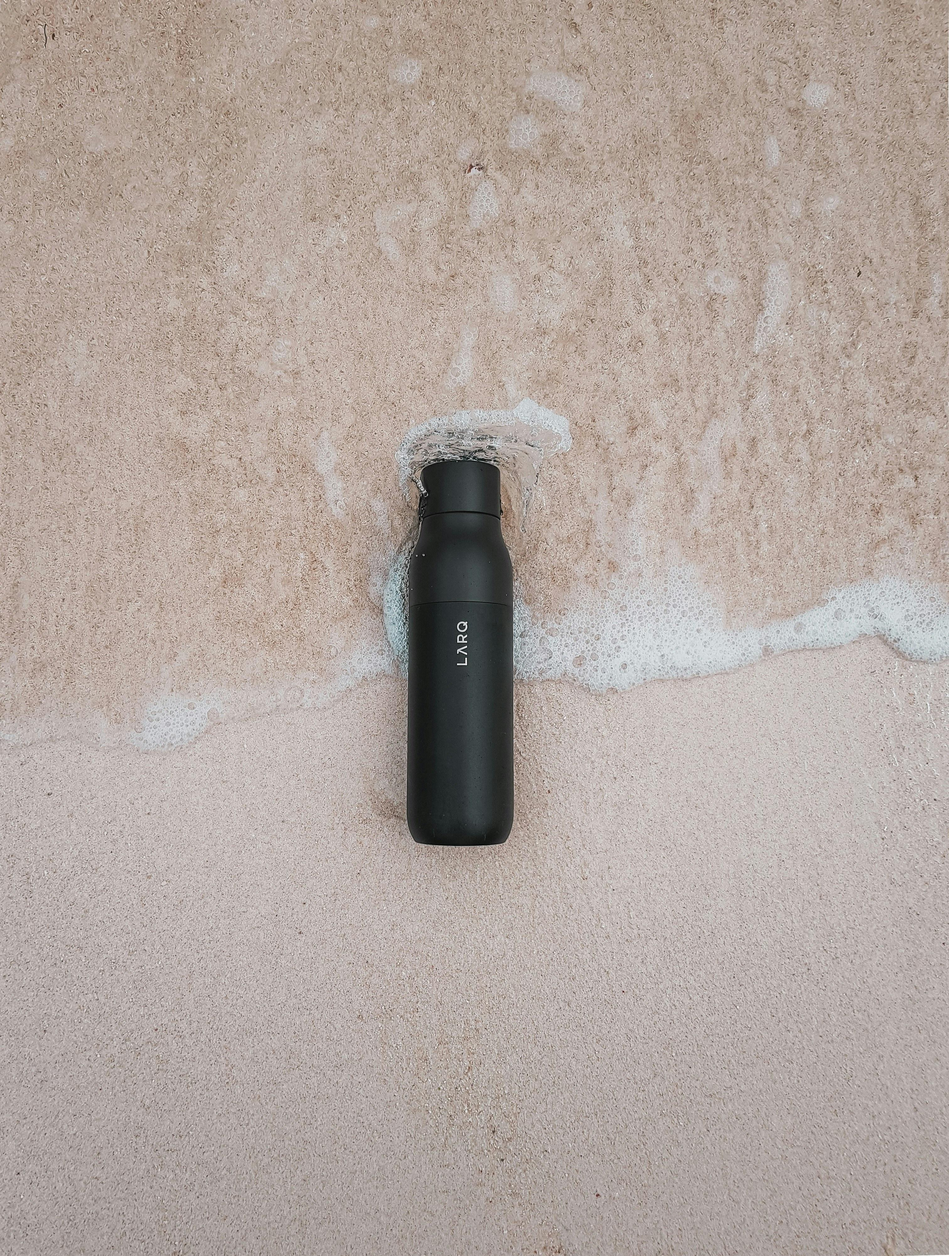Bottle-Detection: (361, 395, 581, 897)
